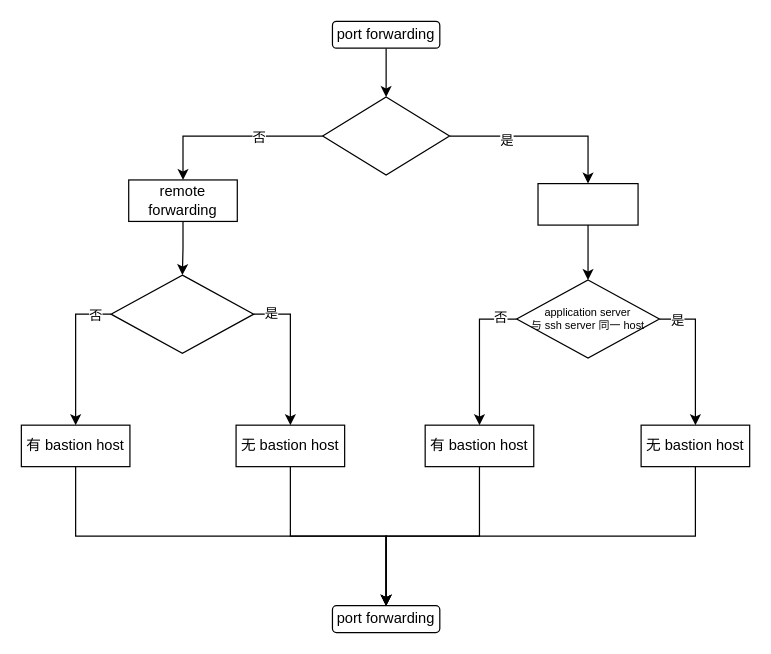
Some shapes in this 771 by 654 pixel diagram are drawn without their labels. The centre of each missing label's shape, as x and y in pixels:
application server 与 ssh client 同一 host: the point at 182,313
application server 在 ssh server 侧: the point at 385,135
local forwarding: the point at 587,203
